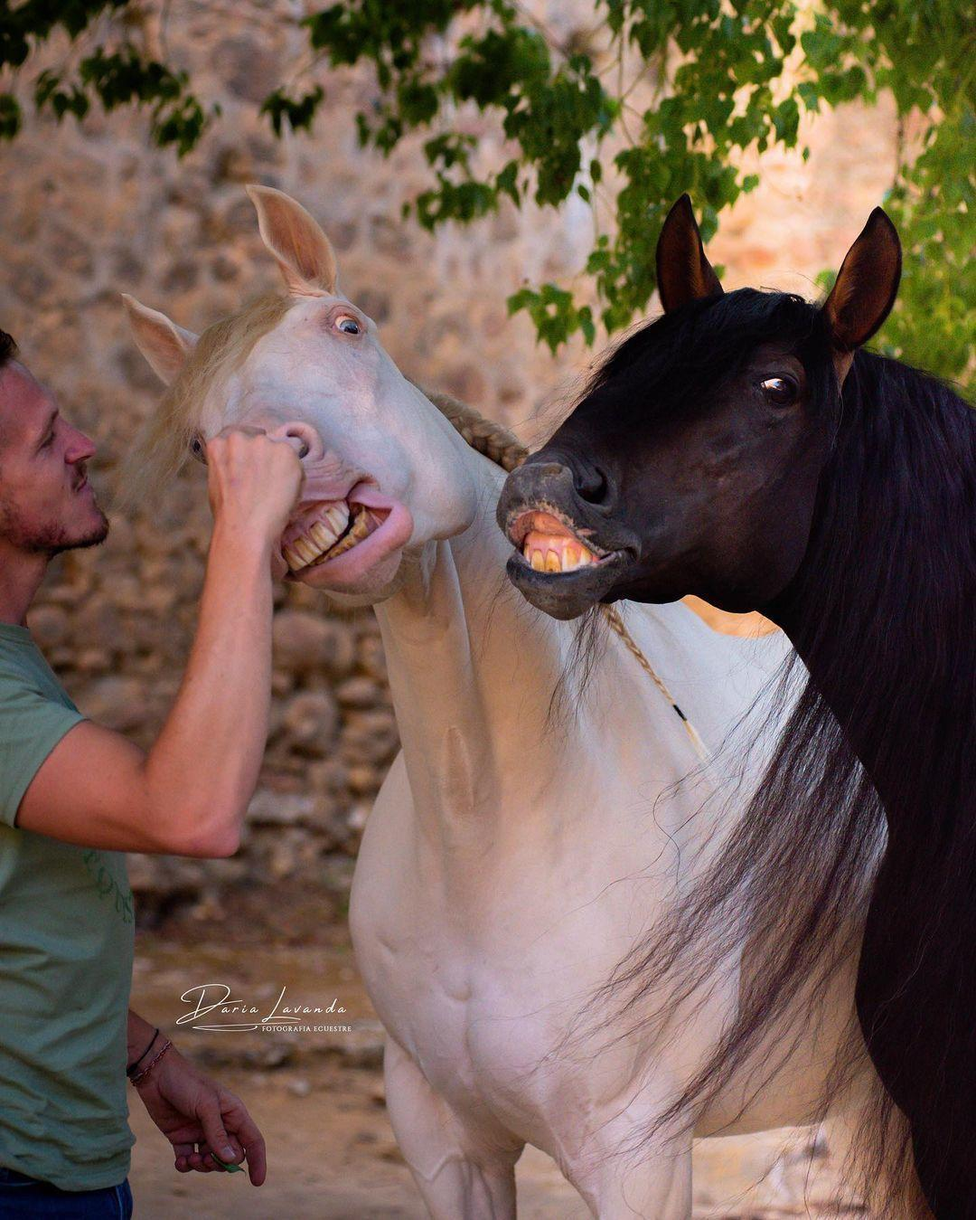horse: (111, 181, 925, 1217), (492, 192, 974, 1218)
